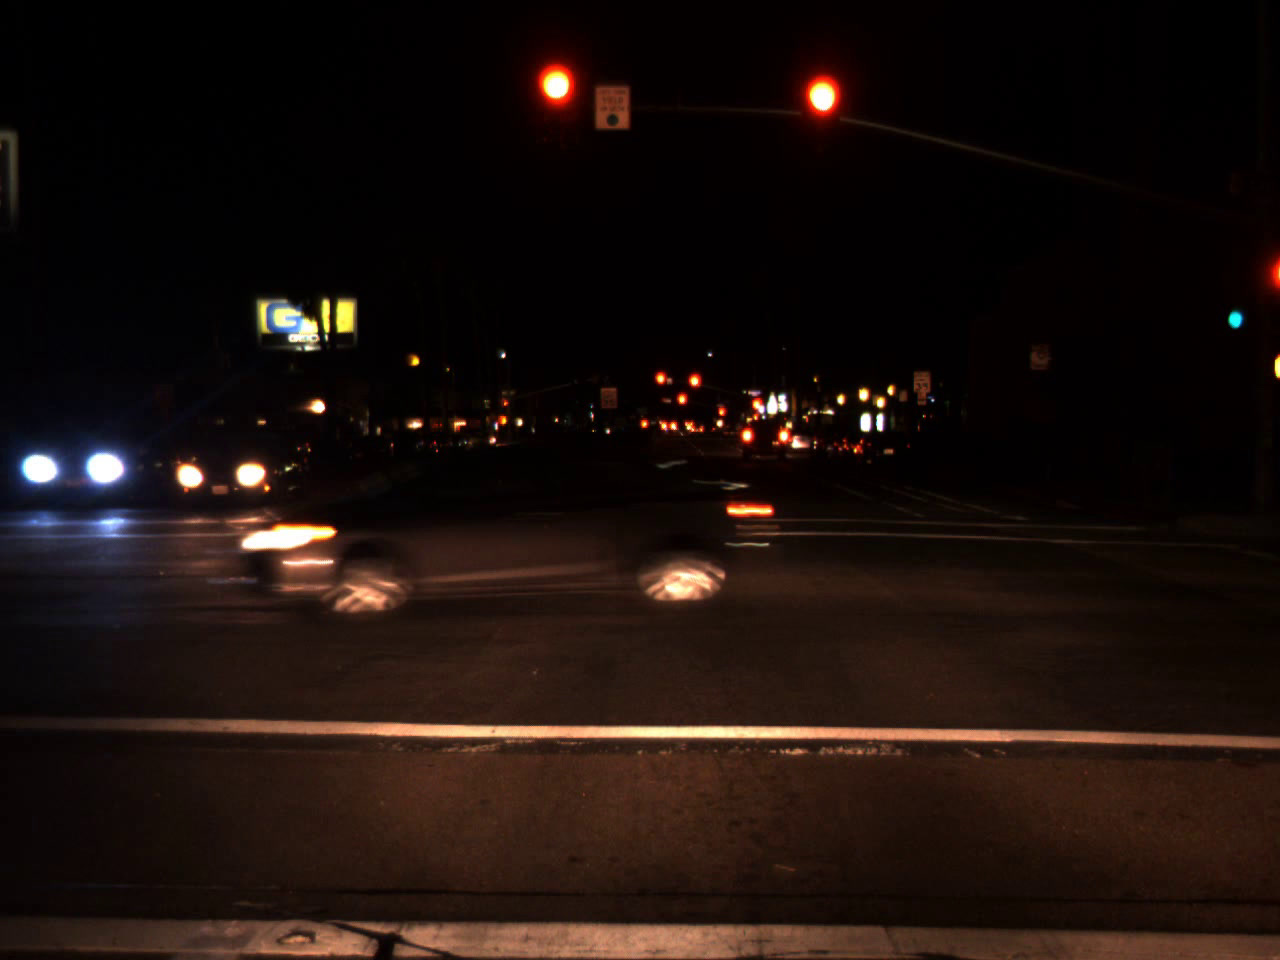stop: (538, 65, 578, 143), (802, 76, 841, 151), (686, 371, 702, 403), (653, 370, 666, 399), (676, 391, 688, 418), (749, 396, 764, 414), (717, 406, 726, 427), (503, 399, 509, 412)
